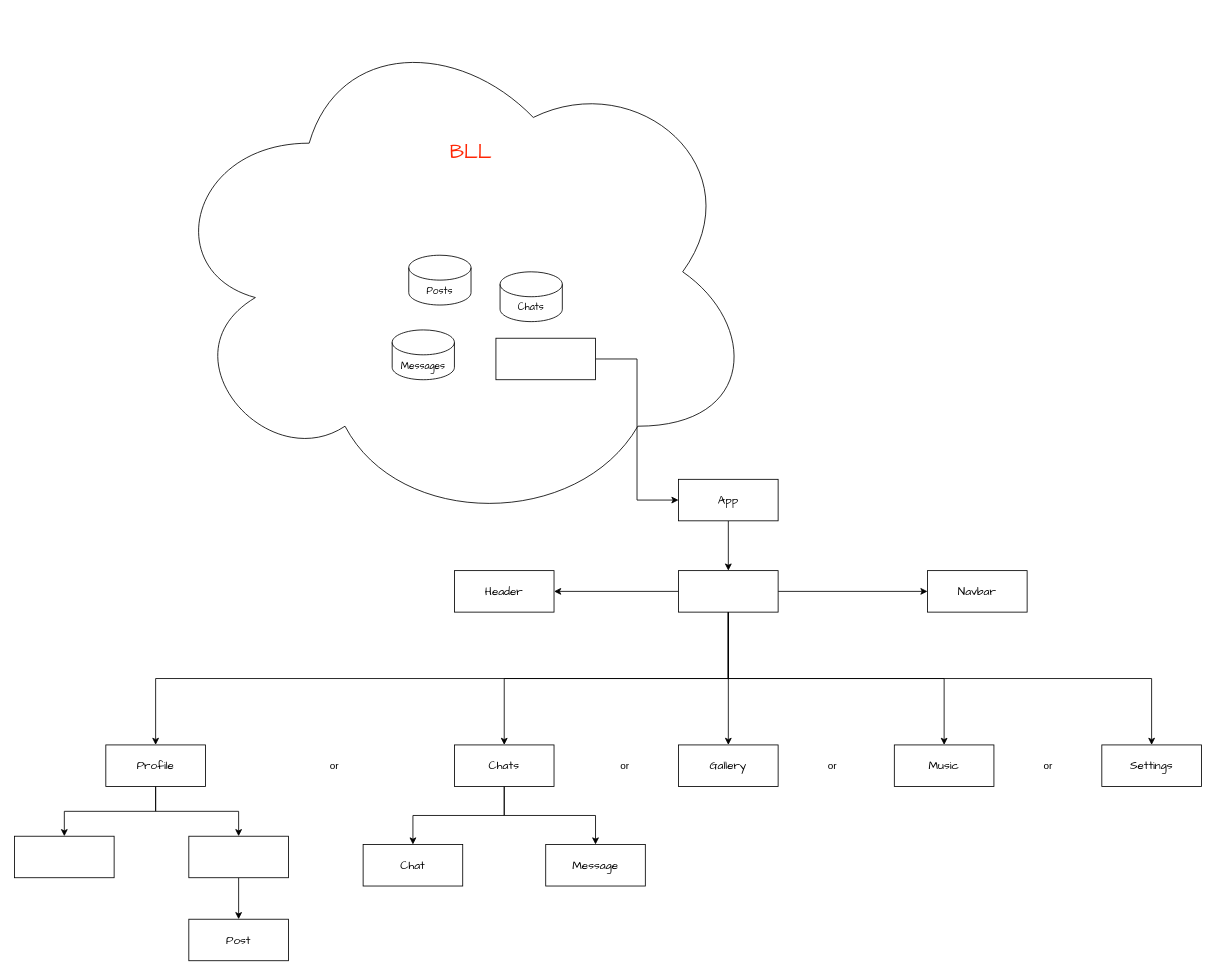
This 1216x975 diagram has some shape labels left out. The centre of each missing label's shape, as x and y in pixels:
BrowserRouter: (728,591)
index.js: (545,358)
MyPosts: (238,856)
ProfileInfo: (64,856)
